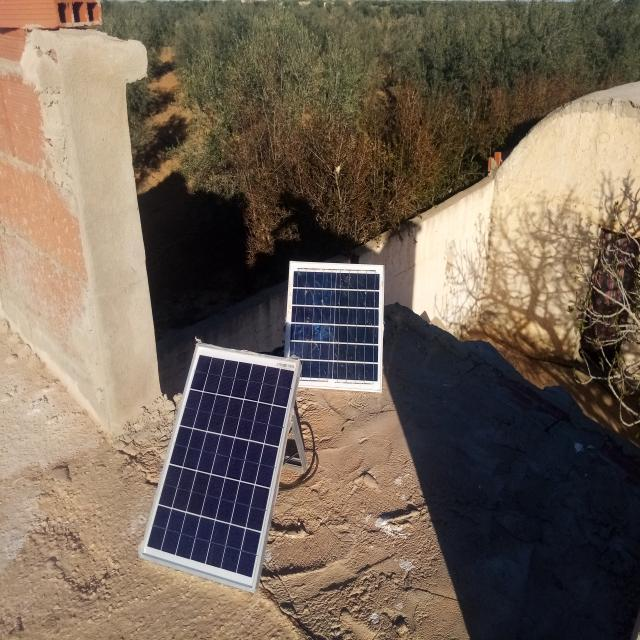faulty: (285, 262, 383, 390)
no faulty: (142, 344, 299, 591)
